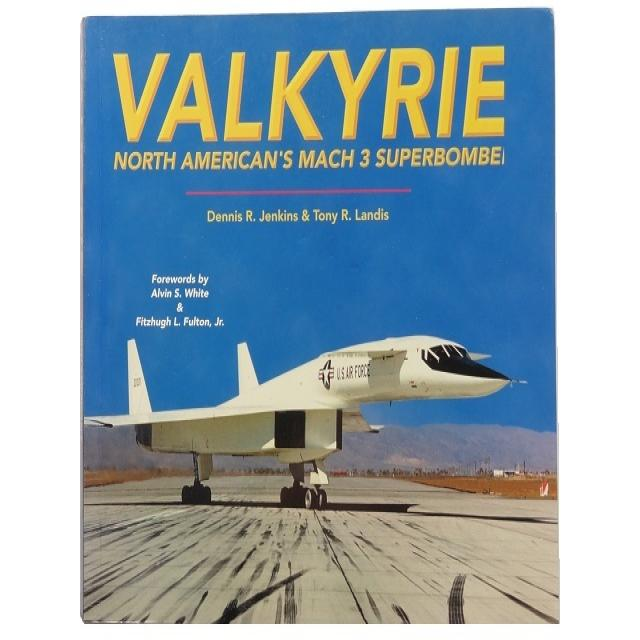MIL_Plane: (84, 334, 528, 510)
